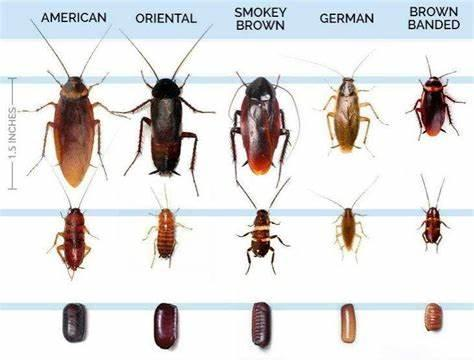cockroach: (51, 59, 101, 190), (232, 64, 285, 187), (140, 66, 188, 178), (325, 64, 371, 162), (414, 64, 452, 142), (58, 208, 88, 272), (247, 208, 276, 267), (336, 203, 362, 257), (155, 204, 178, 264), (419, 204, 446, 249)
